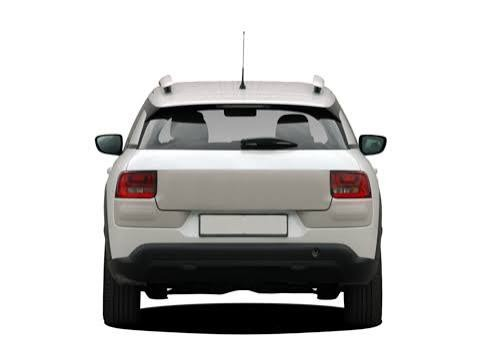car: (84, 57, 384, 334), (77, 62, 381, 328)
